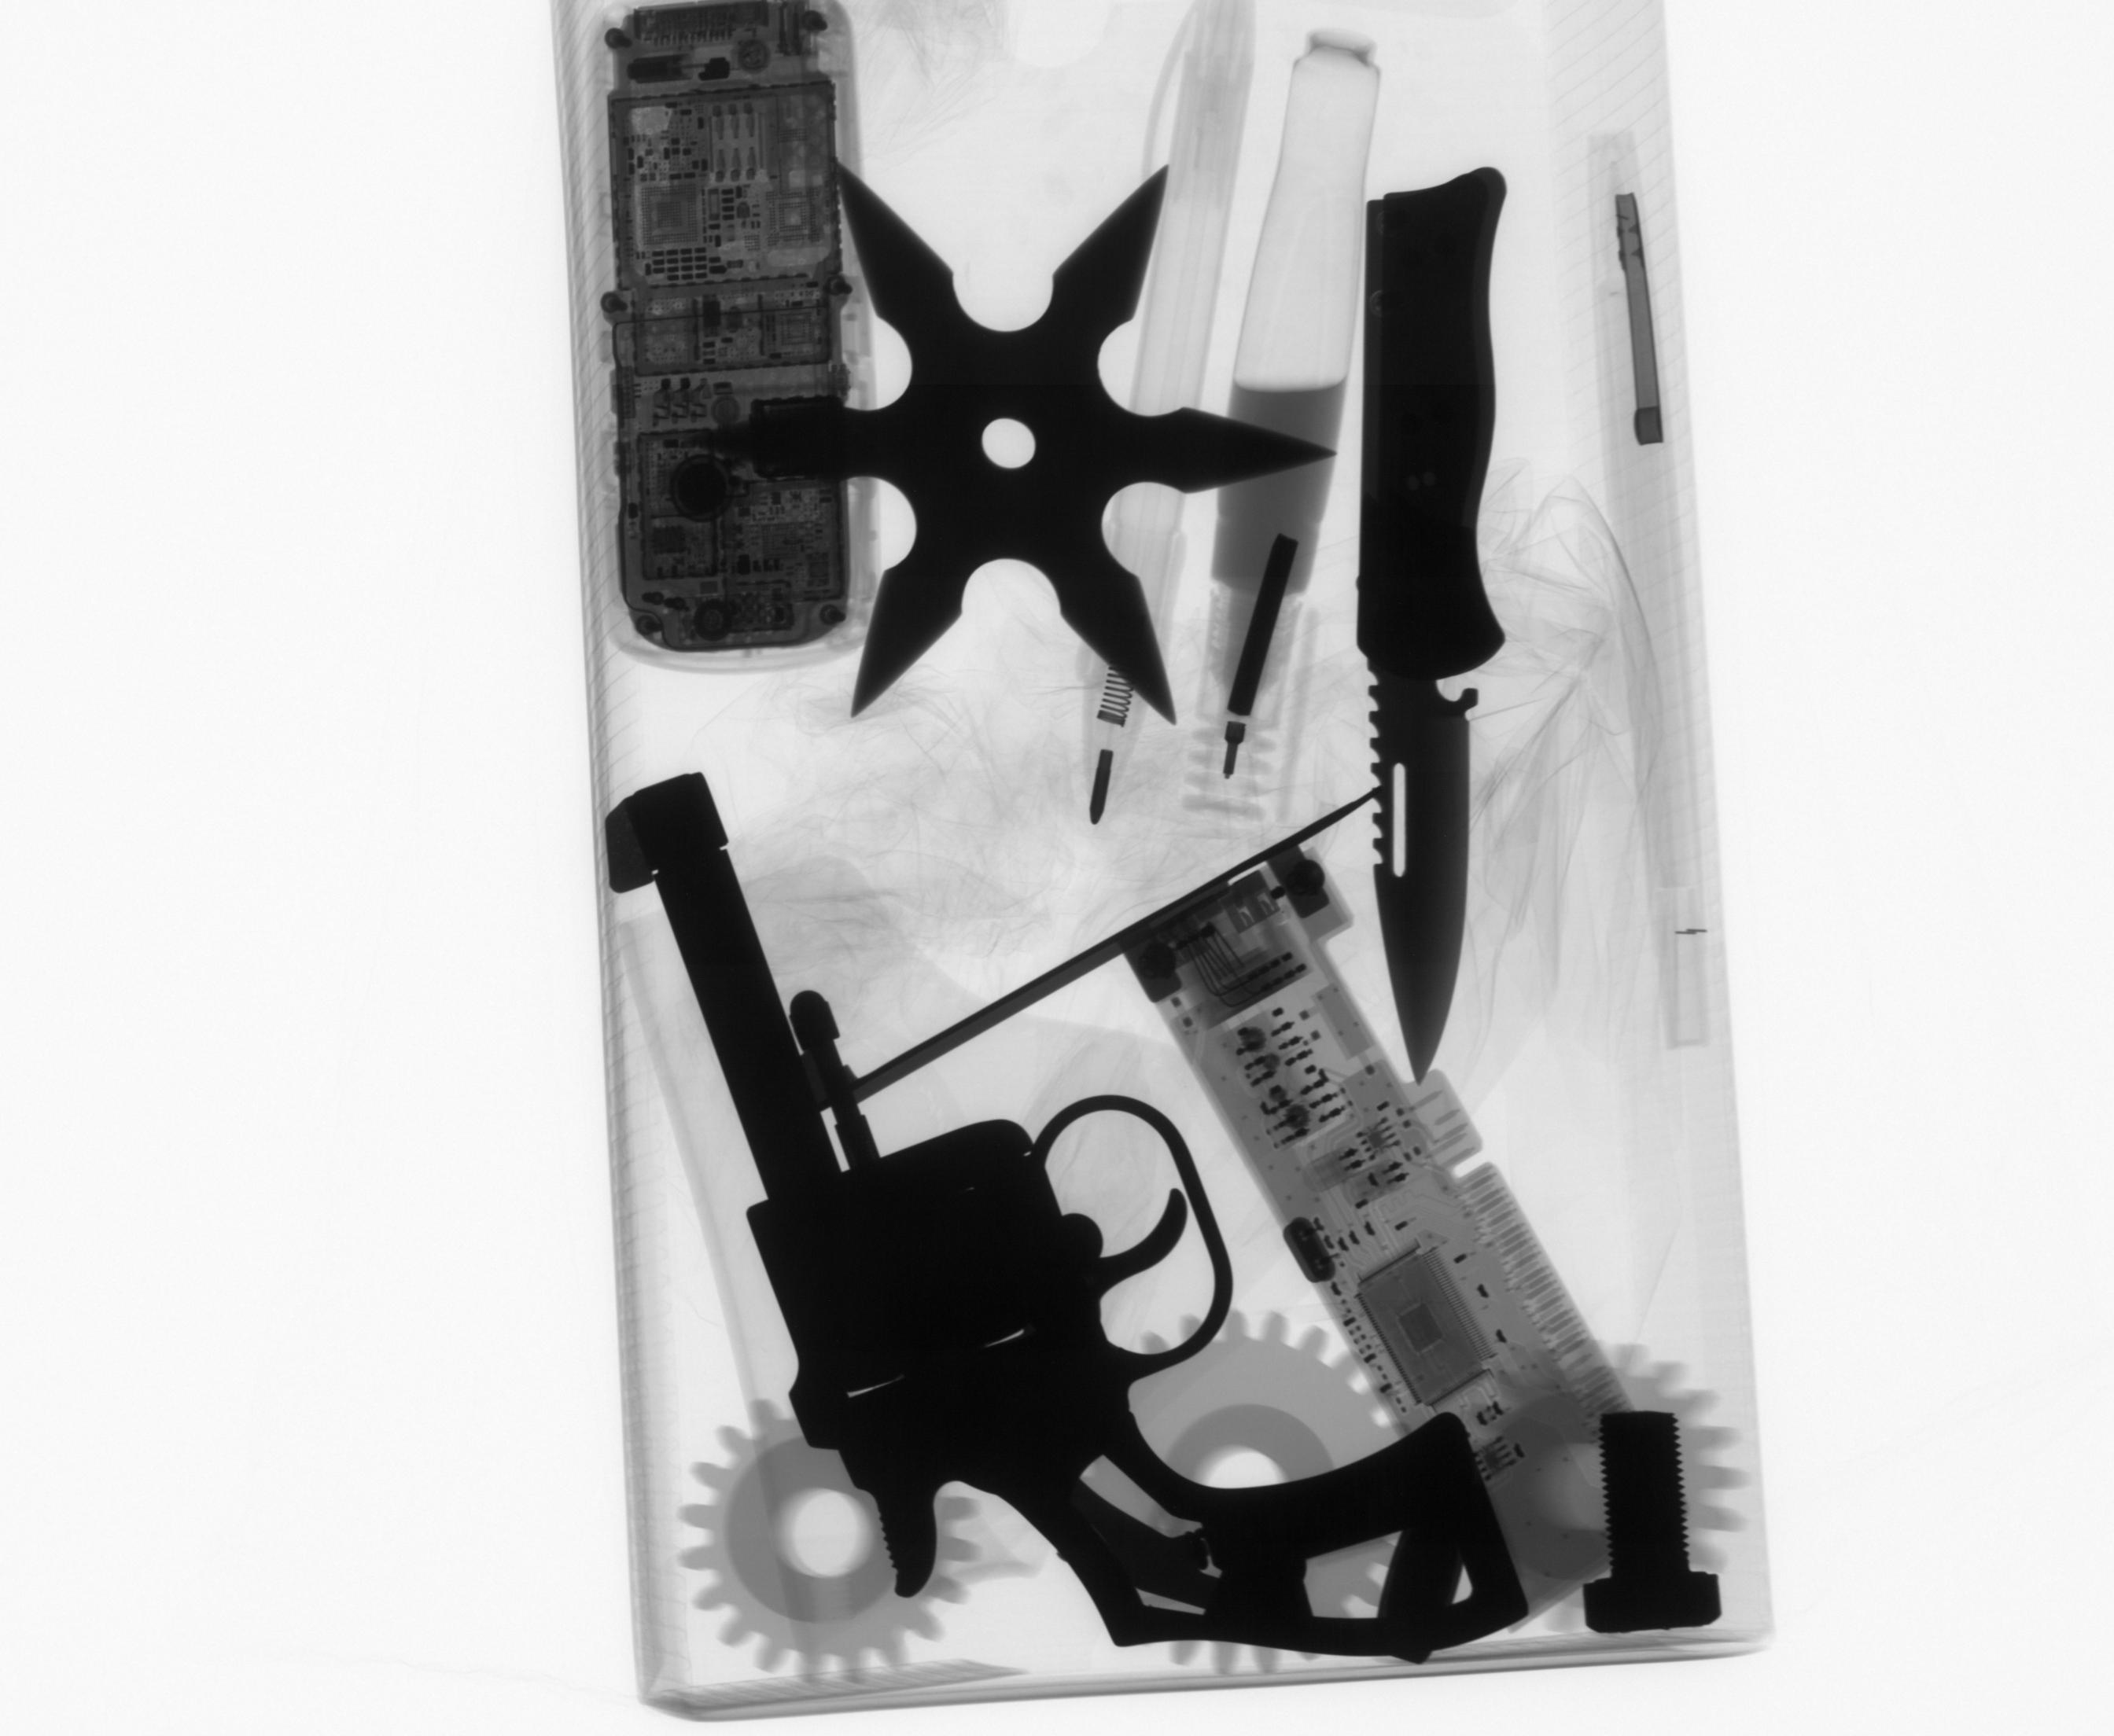Handgun: (585, 764, 1554, 1675)
Knife: (1359, 142, 1536, 1099)
Shuriken: (674, 140, 1338, 746)
